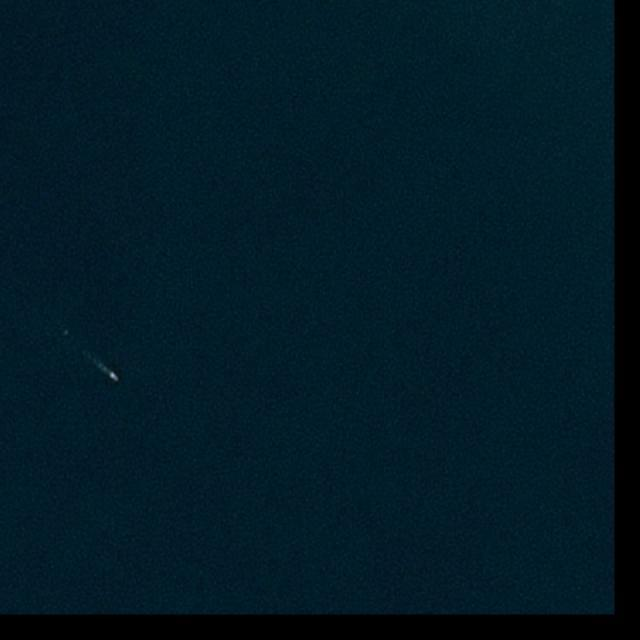ship: (109, 370, 122, 382)
